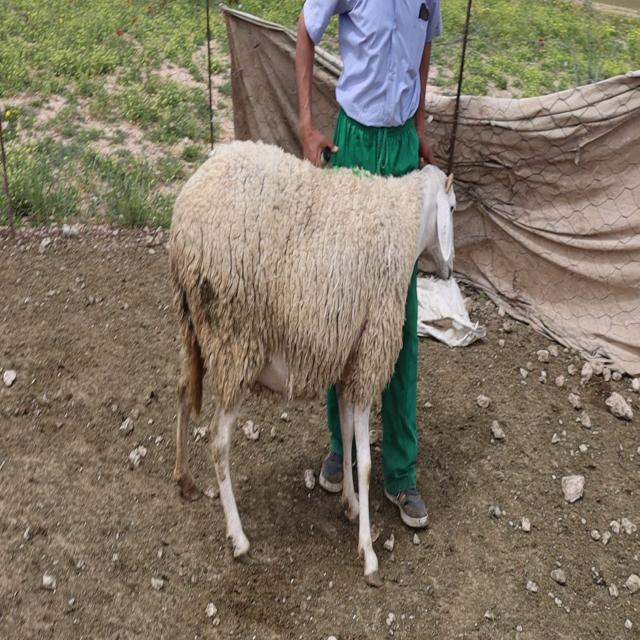Score_5: (169, 141, 456, 581)
